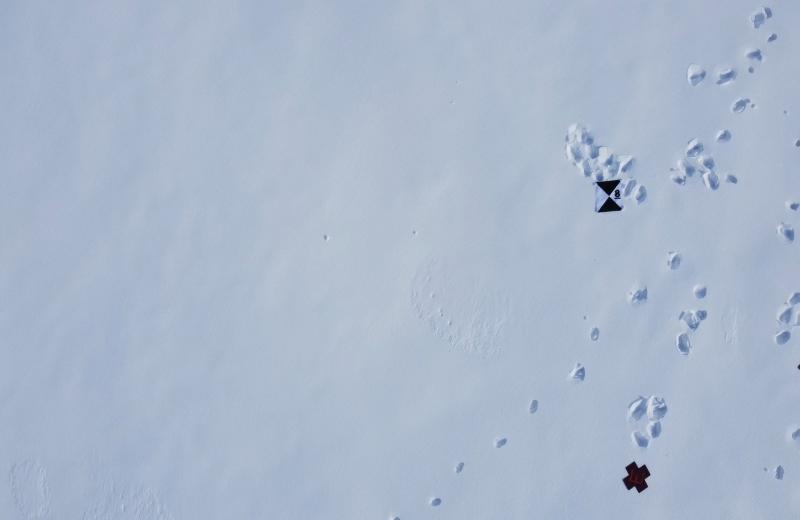Cross: (617, 460, 653, 496)
